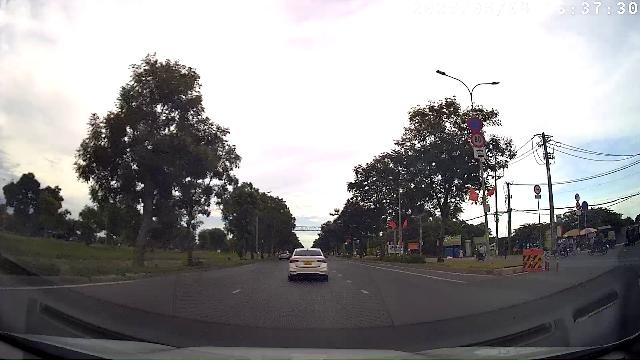127-toc-do-toi-da-80: (470, 132, 486, 146)
130-cam-dung-va-do-xe: (467, 117, 483, 131)
